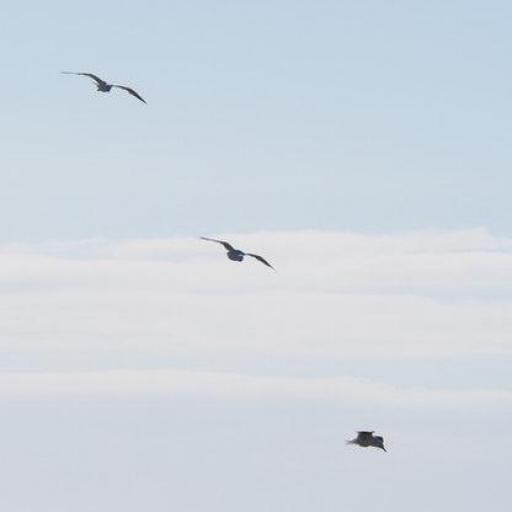bird: (200, 237, 278, 274), (61, 71, 146, 104), (346, 430, 387, 453)
